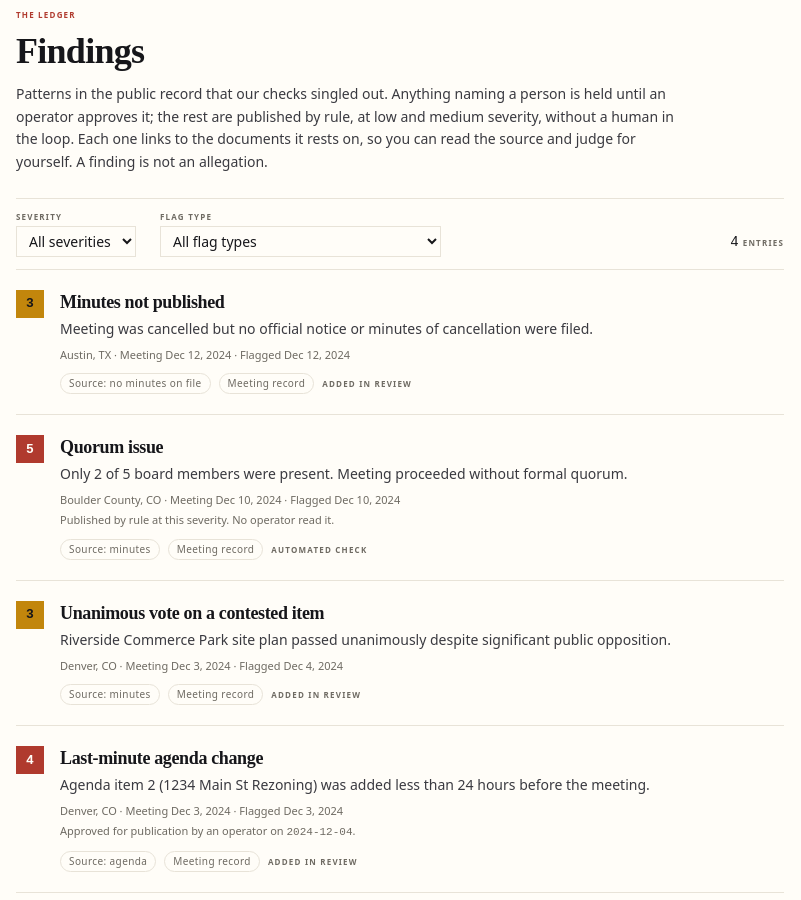
FindingsPage › says so plainly when nothing matches the view
Check: the heading "Quorum issue" is shown, box [60, 437, 163, 457]
Select "Emergency session" in the dropdown labelled "Flag type" at (300, 242), box [160, 226, 441, 257]
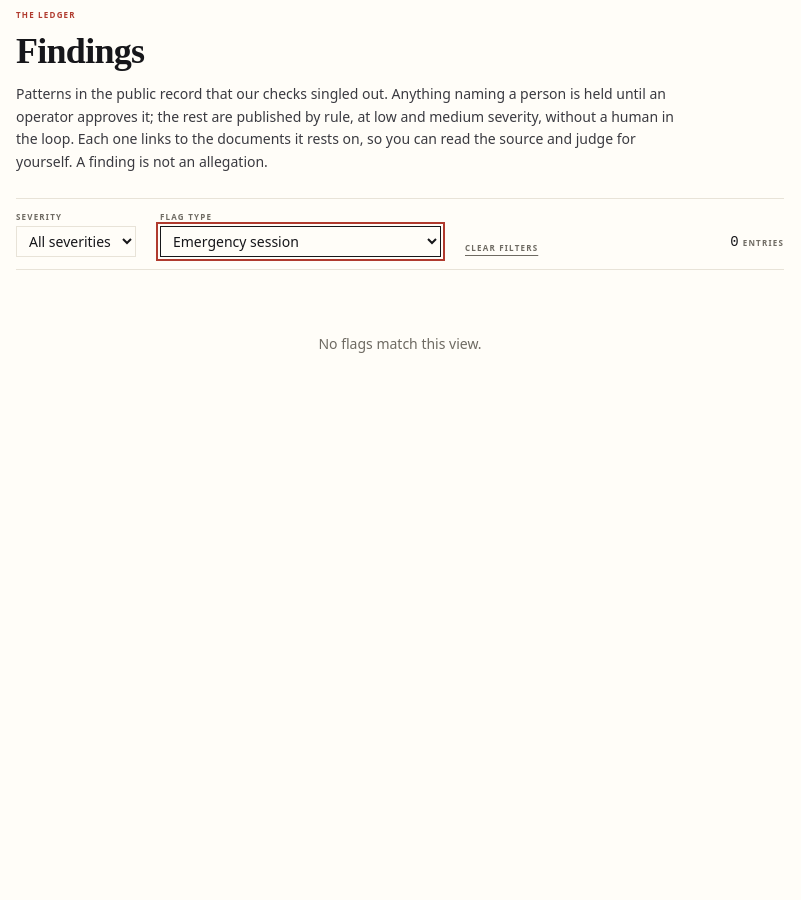
Check: the text "No flags match this view." is shown, box [318, 334, 482, 353]
